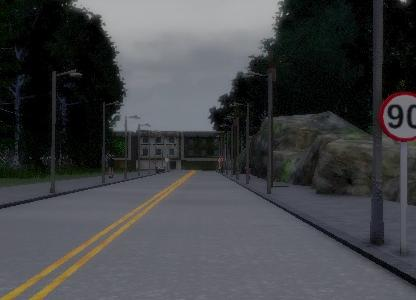Speed_90: (378, 86, 416, 145)
